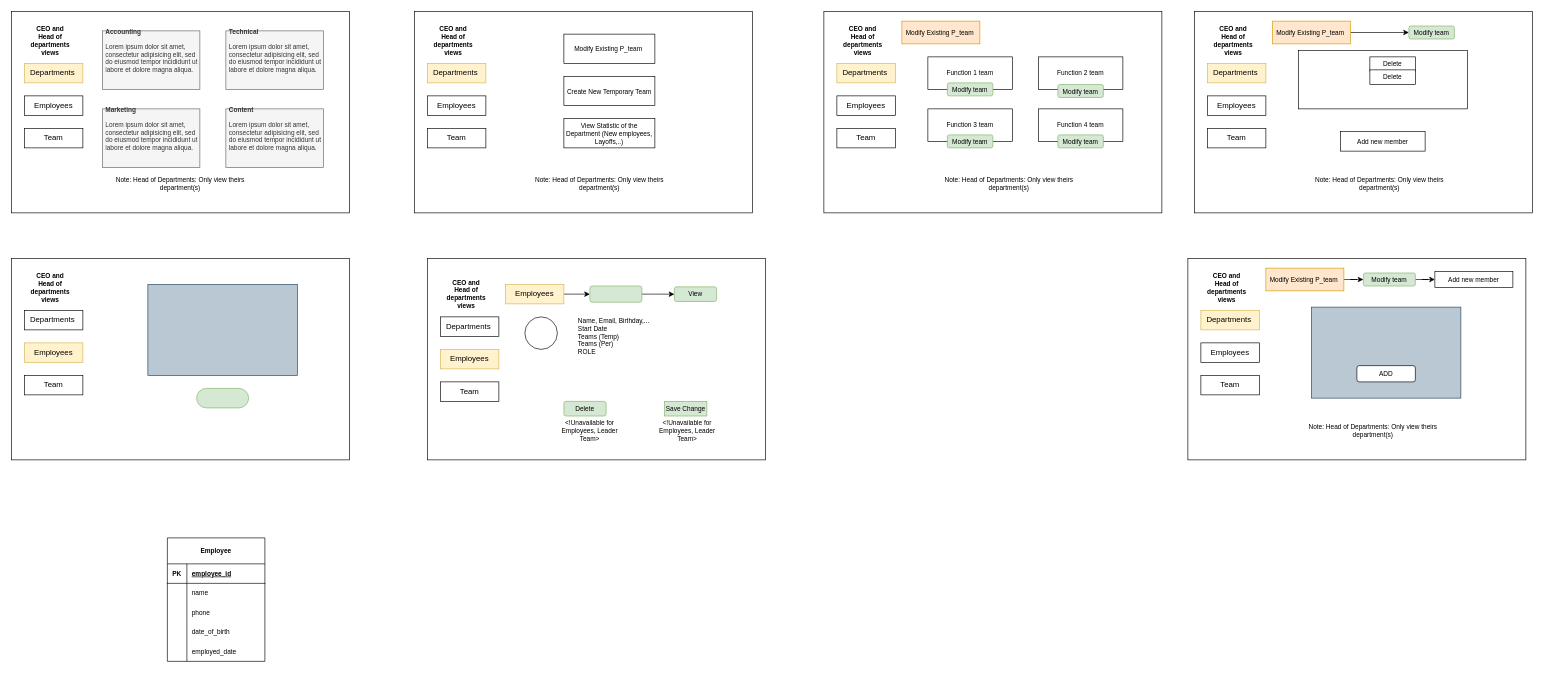
The diagram is 1544 pixels wide and 673 high, and some of its shapes have lost their labels. The shapes that lost their labels are listed below. From the top down, each one's box as (x1, y1, x2, y2) in pixels, then its label:
(1298, 50, 1467, 109): TeamLead Member 1 Member 2 Member 3 ......
(589, 285, 642, 302): Choose Employee
(147, 284, 297, 375): Employee List. Delete View Info Change Role
(1311, 306, 1461, 398): Employee List, Only within the department
(196, 388, 249, 408): Add new employee
